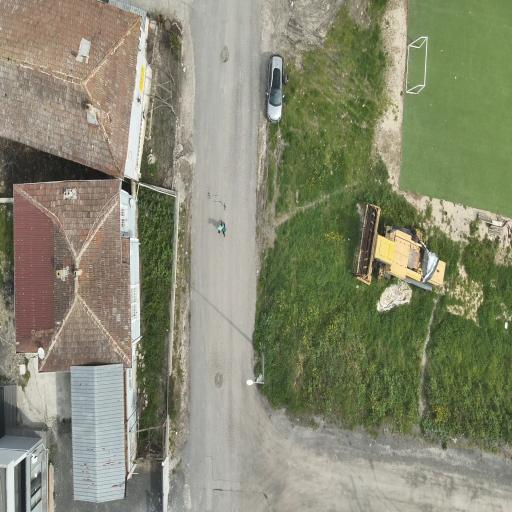car: (267, 55, 283, 122)
harvester: (354, 204, 445, 290)
person: (222, 223, 226, 237), (218, 220, 222, 233), (284, 74, 288, 85)
